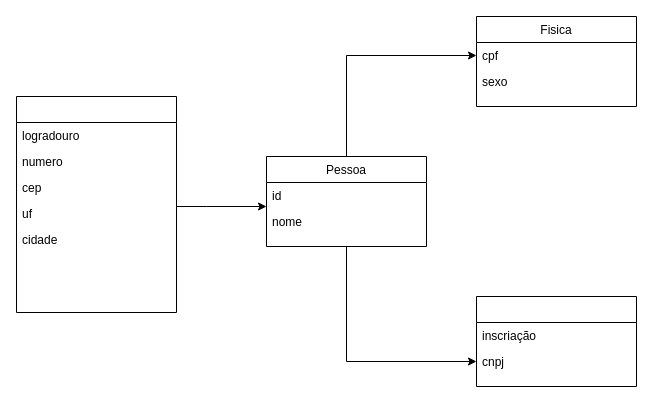
The diagram is 653 pixels wide and 403 high, and some of its shapes have lost their labels. The box of each missing label's shape, as (x1, y1, x2, y2) in pixels:
Endereço: (16, 96, 176, 312)
Juridica: (476, 296, 636, 386)
